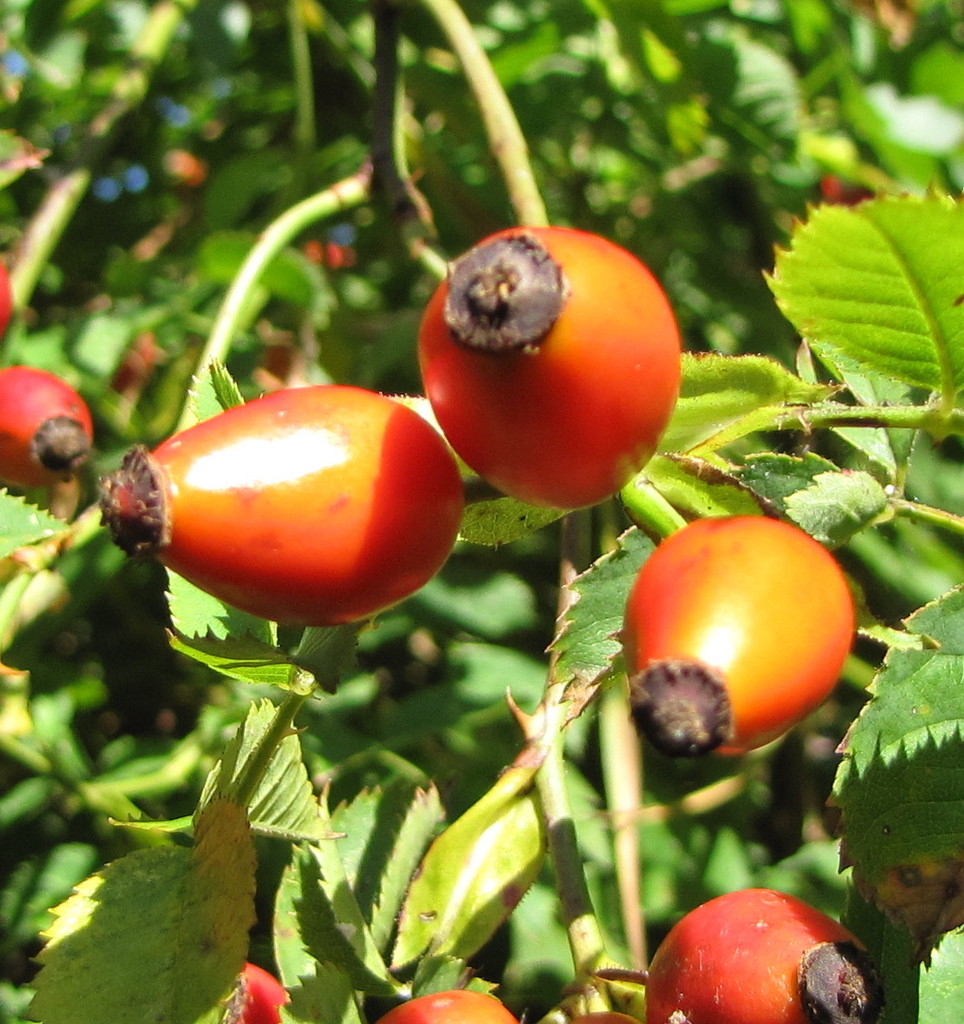Tomato: (419, 220, 682, 490)
